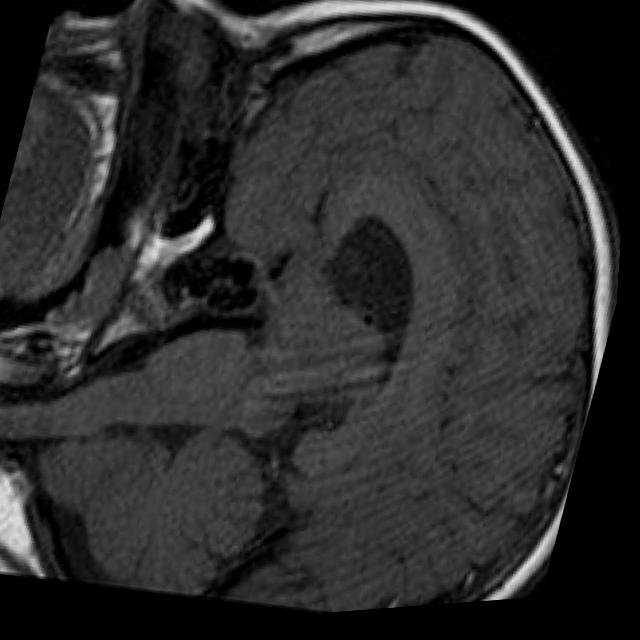NoTumor: (12, 0, 640, 636)
